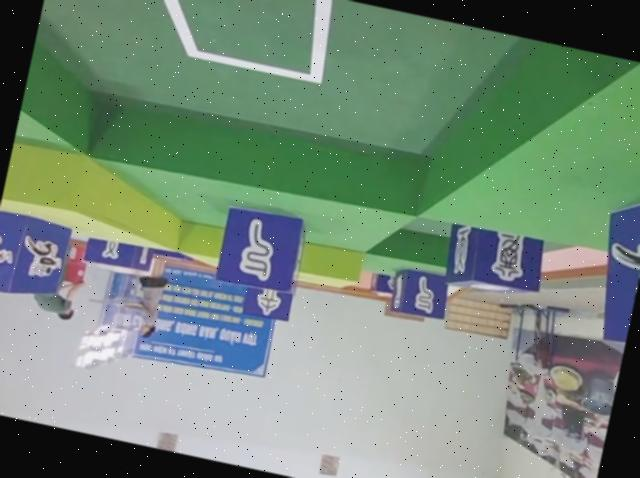R1 Blue: (584, 160, 640, 351), (0, 208, 69, 306)
R2 Fake Blue: (212, 200, 311, 297), (443, 220, 554, 303), (389, 264, 455, 323), (241, 283, 295, 324)
R2 Real Blue: (86, 234, 157, 274)
